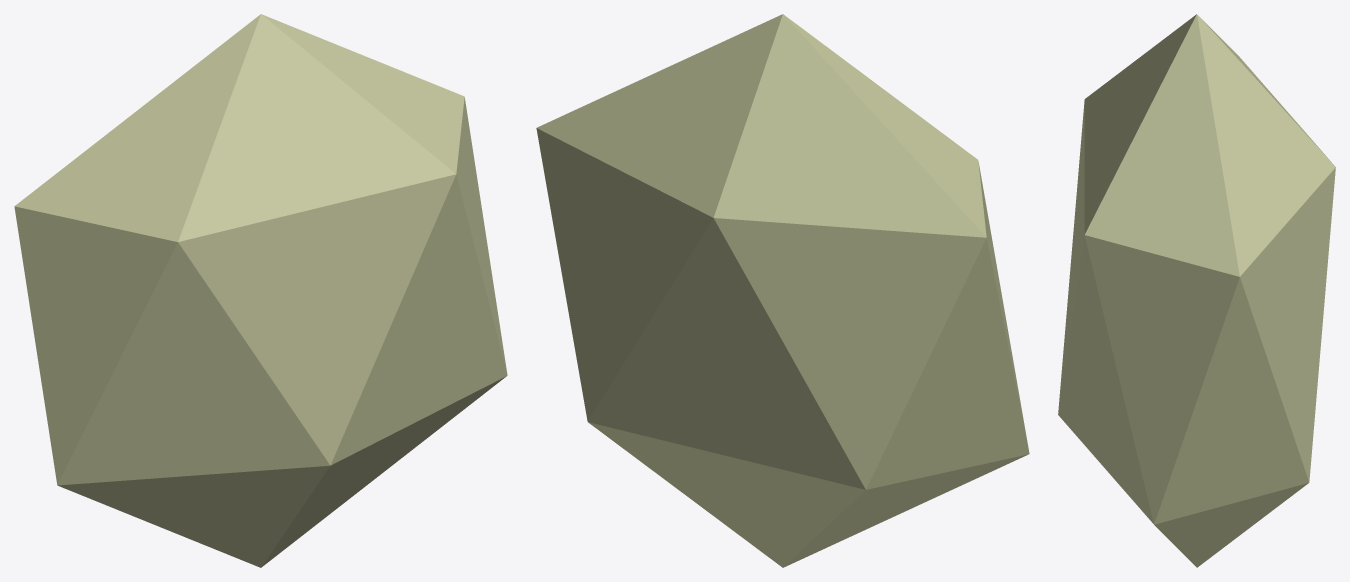
The model's file is star.fbx.
The picture shows the model from 3 angles, left to right: view 1: azimuth 30°, elevation 25°; view 2: azimuth 150°, elevation 25°; view 3: azimuth 270°, elevation 25°; orthographic projection.
Visible parts, largest first — view 1: Icosphere; view 2: Icosphere; view 3: Icosphere.
Part boxes in pixels (x1=…): Icosphere: x1=14, y1=14, x2=507, y2=567; Icosphere: x1=536, y1=14, x2=1029, y2=567; Icosphere: x1=1058, y1=14, x2=1335, y2=567.
Size of the model in its own units: 170 by 200 by 90.9.
